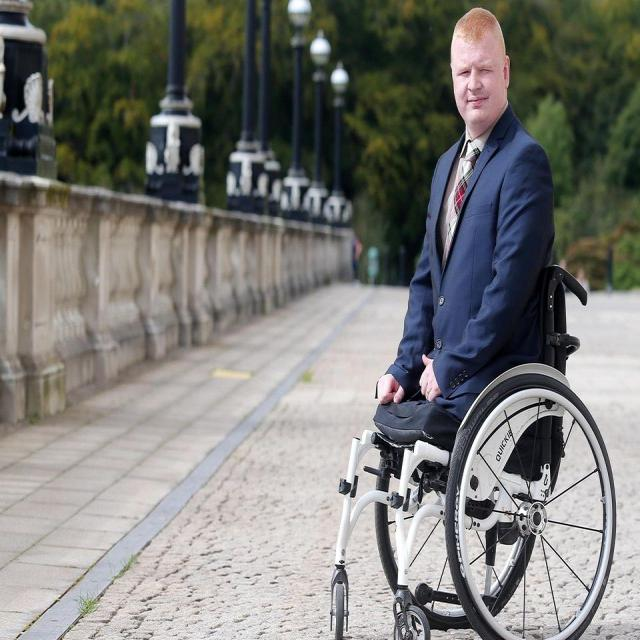wheelchairs: (329, 163, 635, 640)
